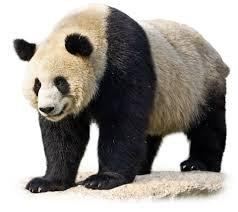bear: (12, 4, 229, 194)
